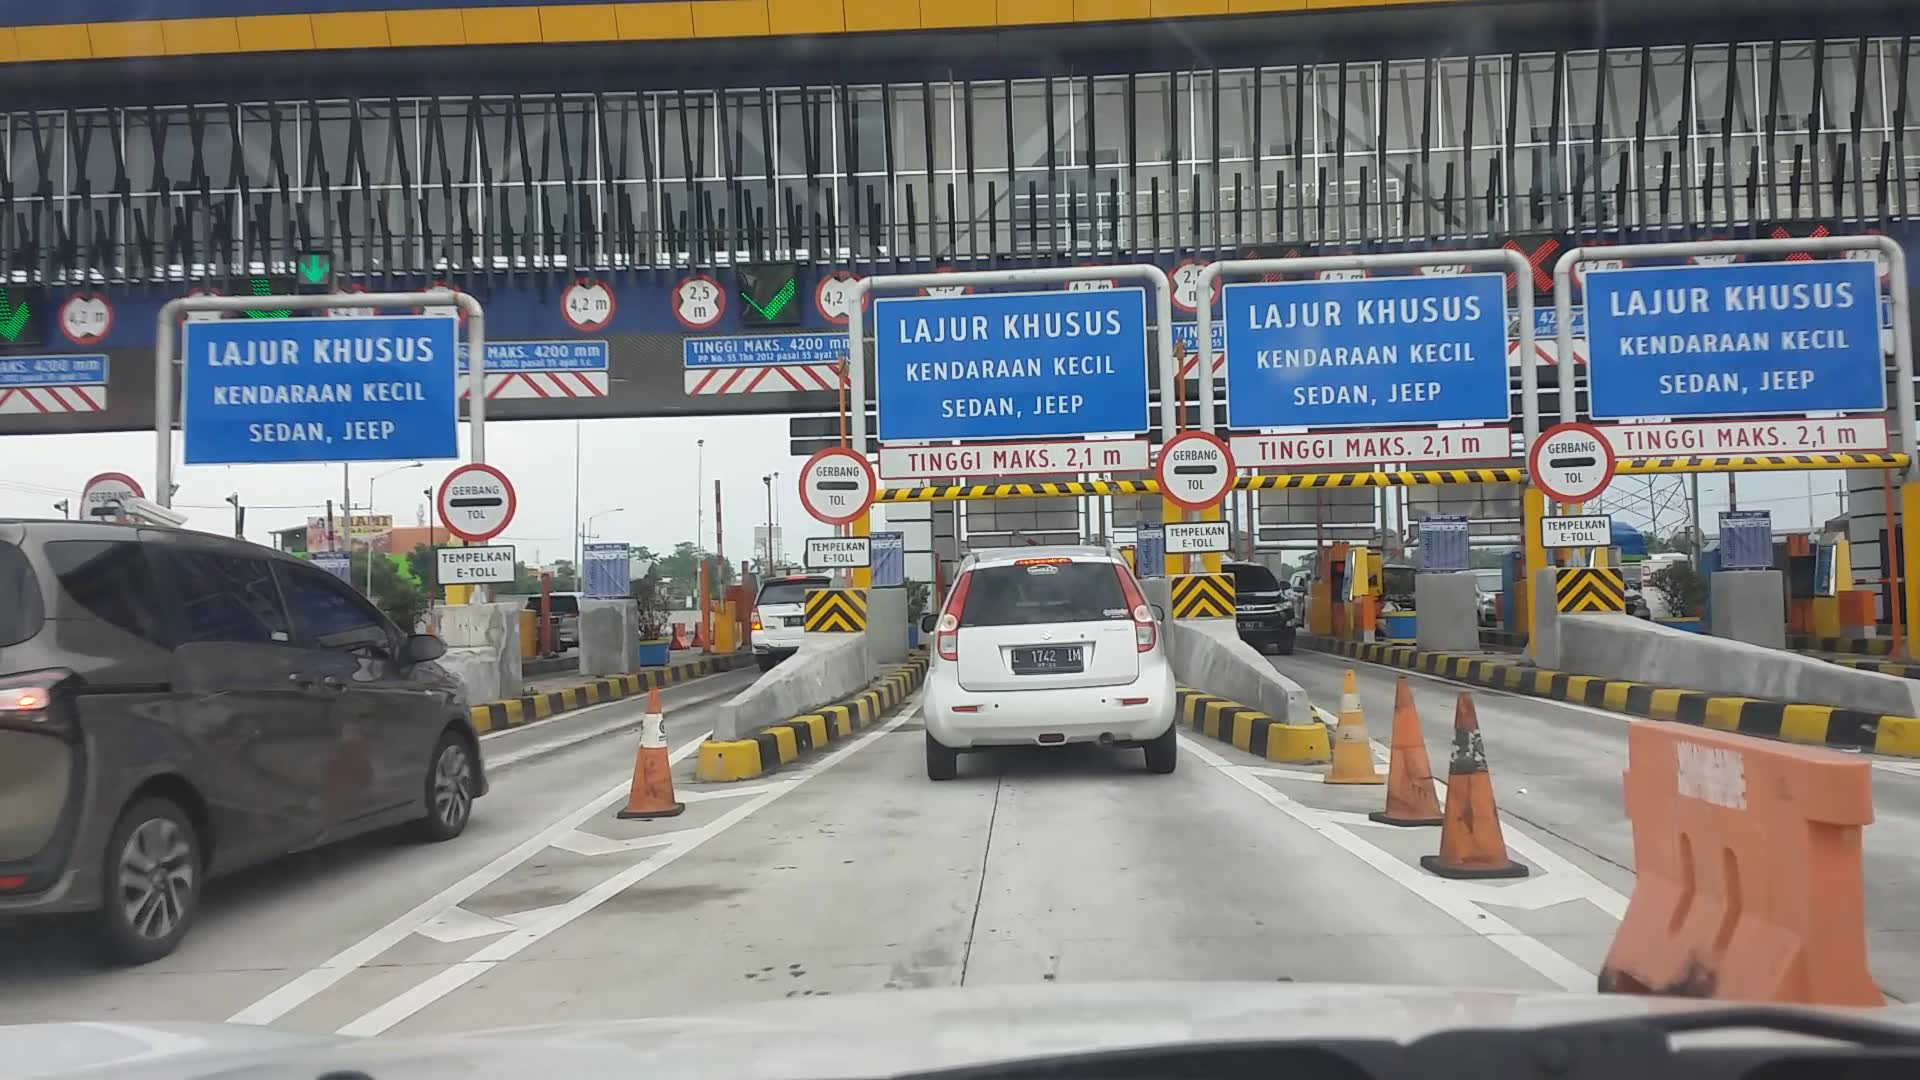plate_positive: (1011, 647, 1083, 673)
